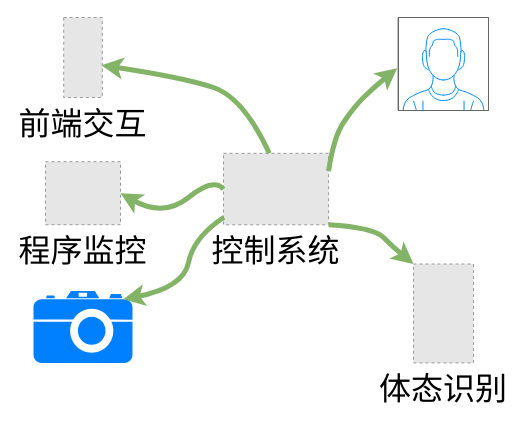
Some shapes in this 525 by 425 pixel diagram are drawn without their labels. Grey dashed boxes stand in for pictures. The centre of each missing label's shape, as x and y in pixels:
人脸识别: (443,63)
相机监控: (82,326)
